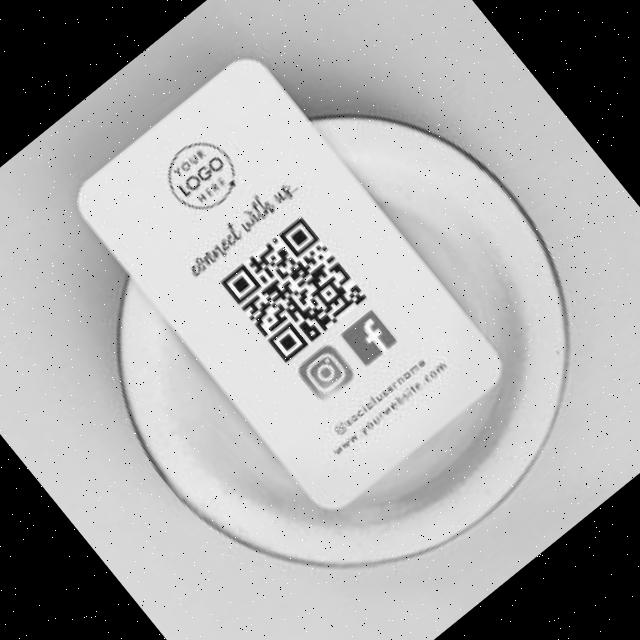QR-codes: (217, 210, 371, 364)
